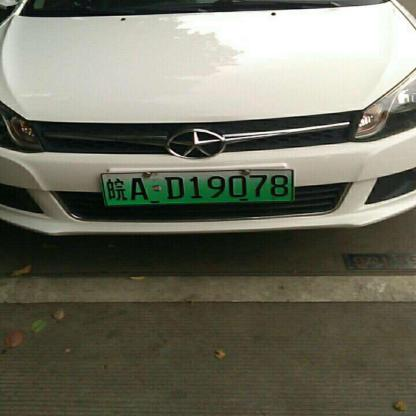lp: (103, 170, 292, 204)
